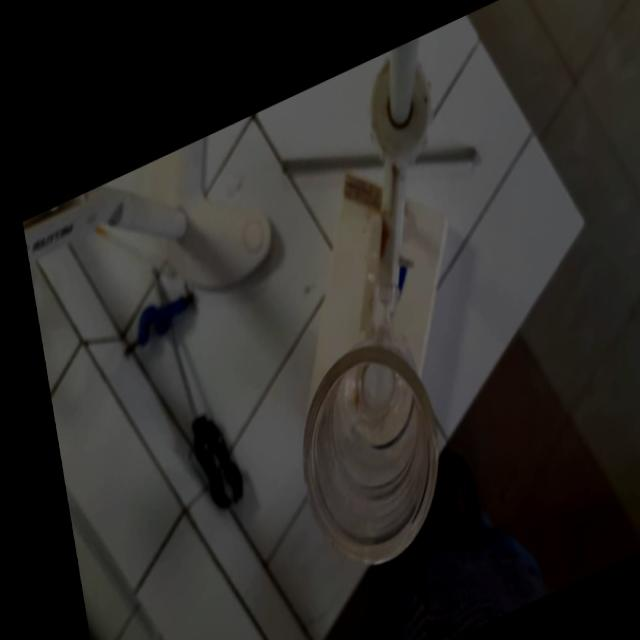Column Chromatography: (276, 245, 468, 601)
